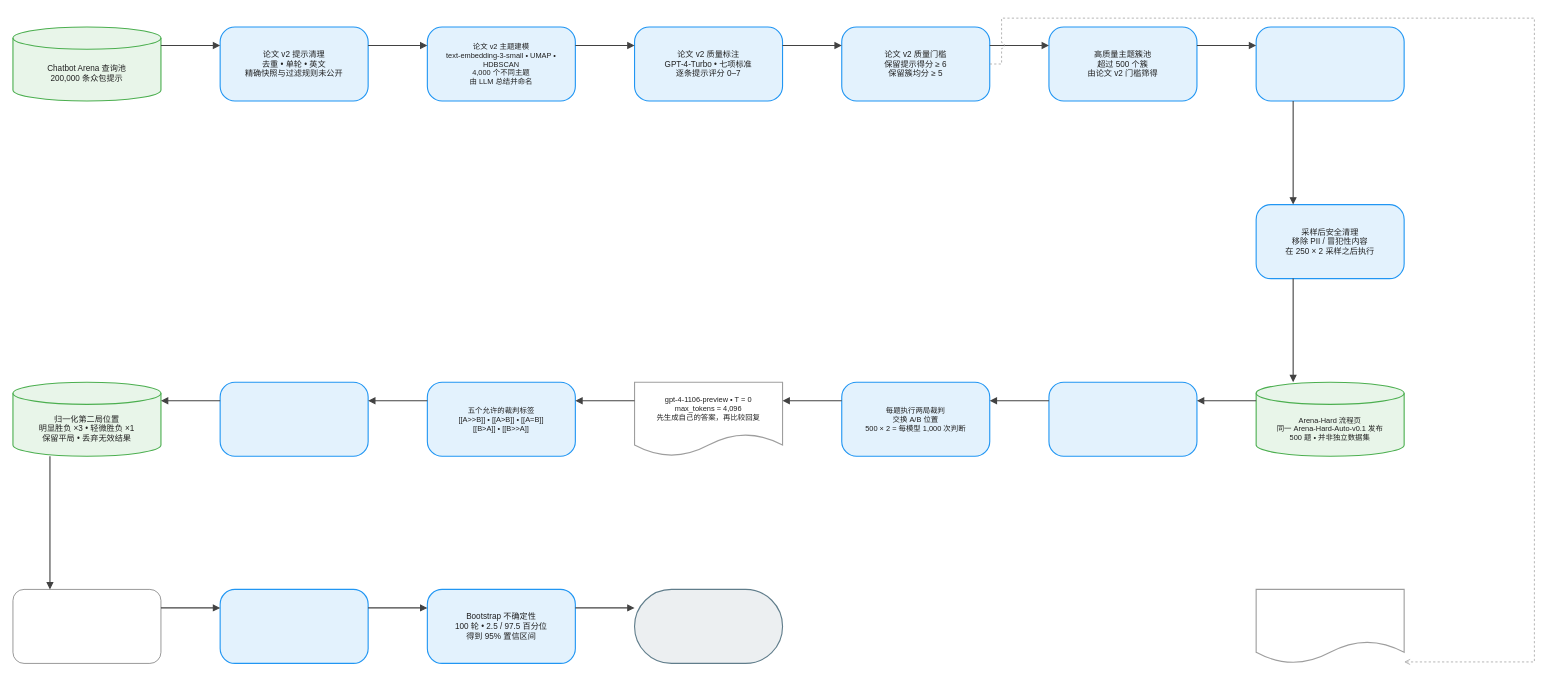
The diagram is 1554 pixels wide and 681 high, and some of its shapes have lost their labels. Each missing label, with the box of its shape:
Arena-Hard-Auto-v0.1 报告 相对基线胜率 • 95% 置信区间 可审计的成对判断到 BT 链: (634, 589, 783, 664)
Bradley-Terry / Elo 尺度逻辑回归 无正则估计 锚定 gpt-4-0314 = 1,000: (12, 589, 161, 663)
仅作来源版本证据 April blog / 仓库：均分 ≥ 6 • v1：GPT-3.5 固定实现主题命名：gpt-4o-mini 非论文 v2 主链: (1255, 589, 1404, 664)
候选模型与基线回复 基线：gpt-4-0314 在 500 条开放提示上生成: (1048, 381, 1197, 456)
固定版本裁判解析器 无标签 → continuation；最多 2 次 单一 / 重复同标签 → 接受 冲突标签 → 立即无效；不重试: (219, 381, 368, 456)
多样性随机采样 随机选择 250 个簇 每簇 2 条 = 500 条: (1255, 26, 1404, 101)
转换为相对基线胜率 相对 gpt-4-0314 默认报告并非 Elo rating: (219, 589, 368, 664)
